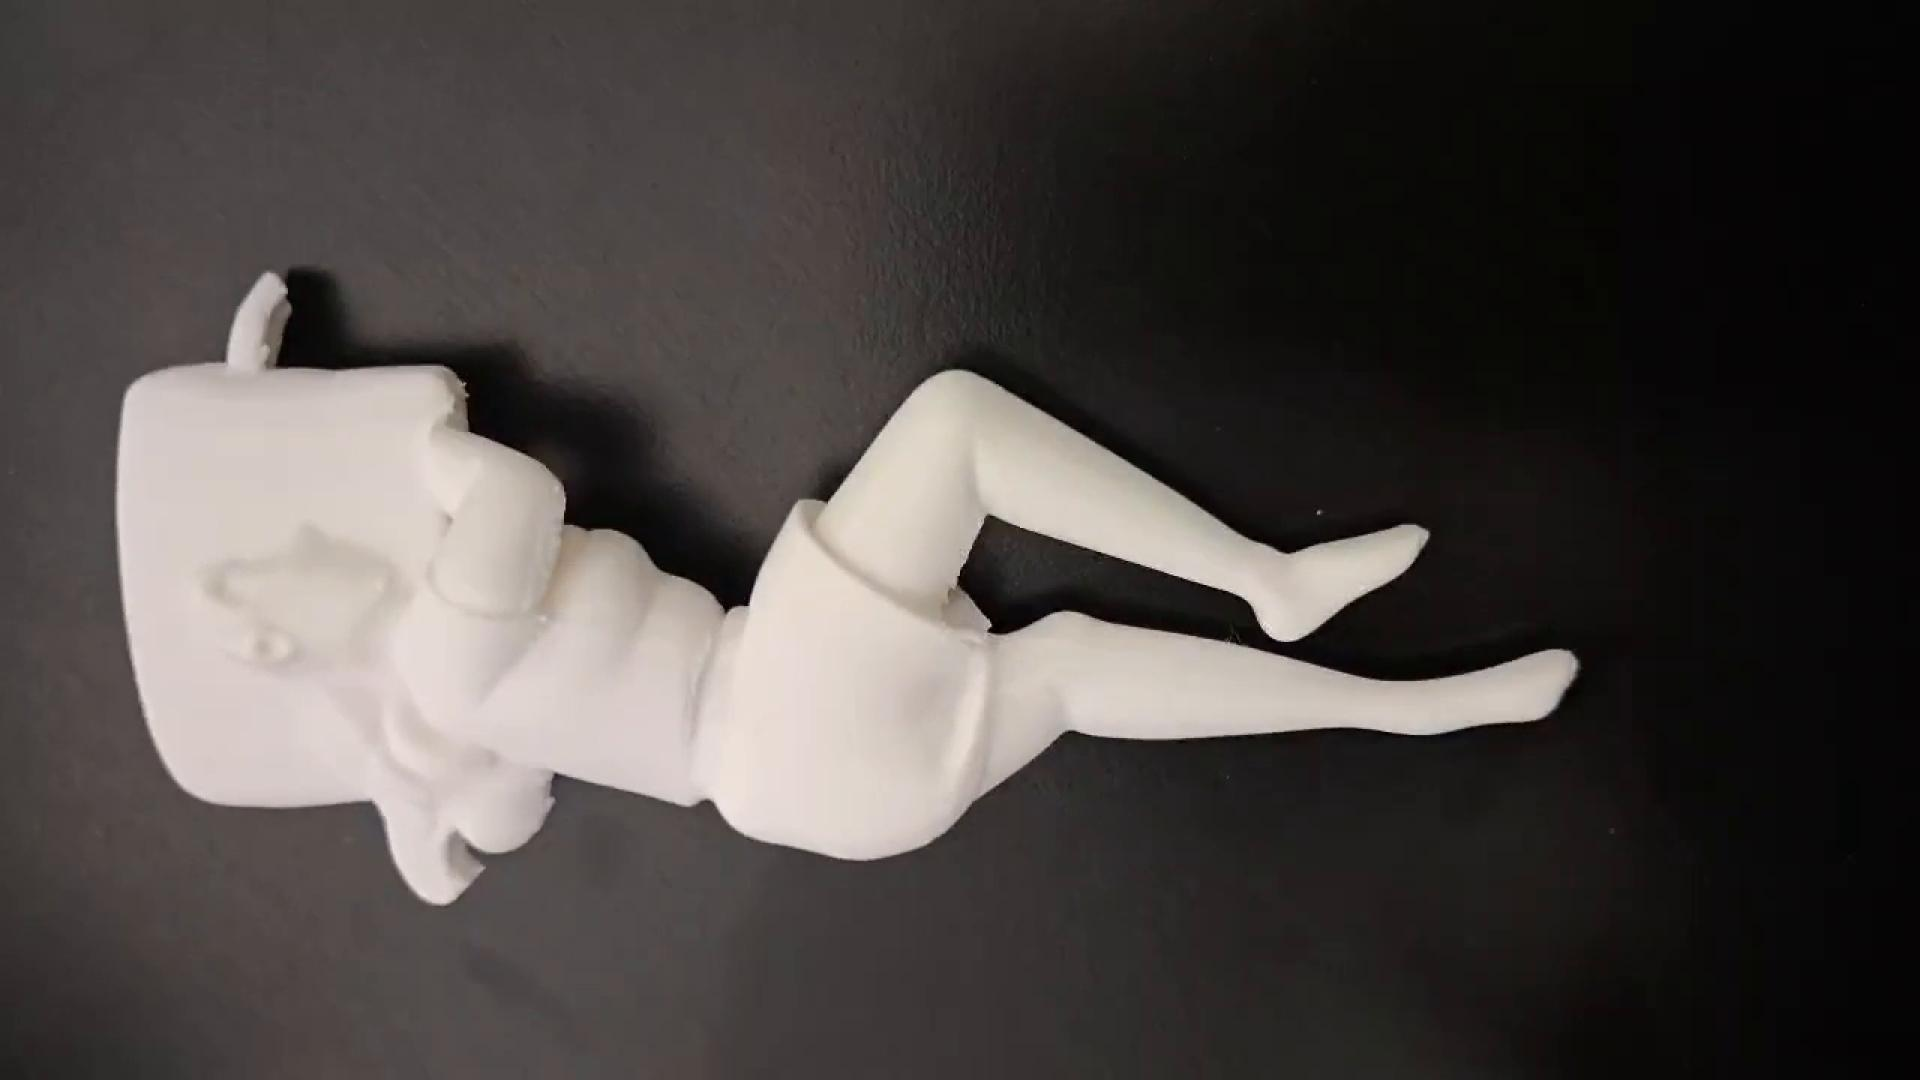Good-style: (66, 257, 1650, 938)
